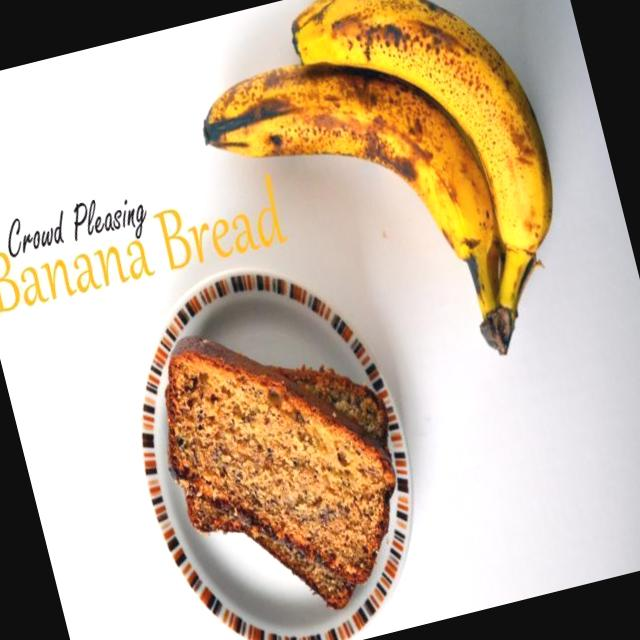Banana: (166, 0, 600, 420)
